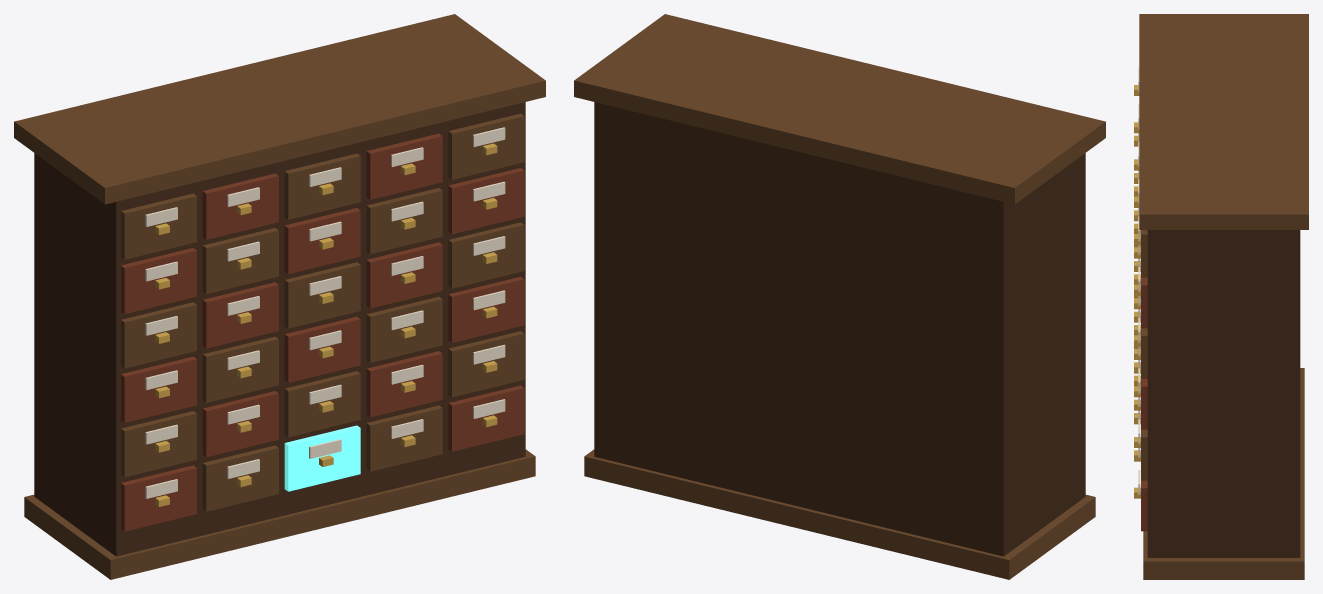
File: prop_medicine_chest_big.glb
3 views of the same model, side by side, from view 1: azimuth 30°, elevation 25°; view 2: azimuth 150°, elevation 25°; view 3: azimuth 270°, elevation 25° (orthographic). The views are drawn at different scales.
Visible parts, largest first — view 1: prop_medicine_chest_big; view 2: prop_medicine_chest_big; view 3: prop_medicine_chest_big.
Part boxes in pixels (x1,y1,x2,y2): prop_medicine_chest_big: [14, 14, 545, 579]; prop_medicine_chest_big: [574, 14, 1105, 579]; prop_medicine_chest_big: [1134, 14, 1308, 579].
Size of the model in its own units: 2.8 by 2.4 by 1.03.
